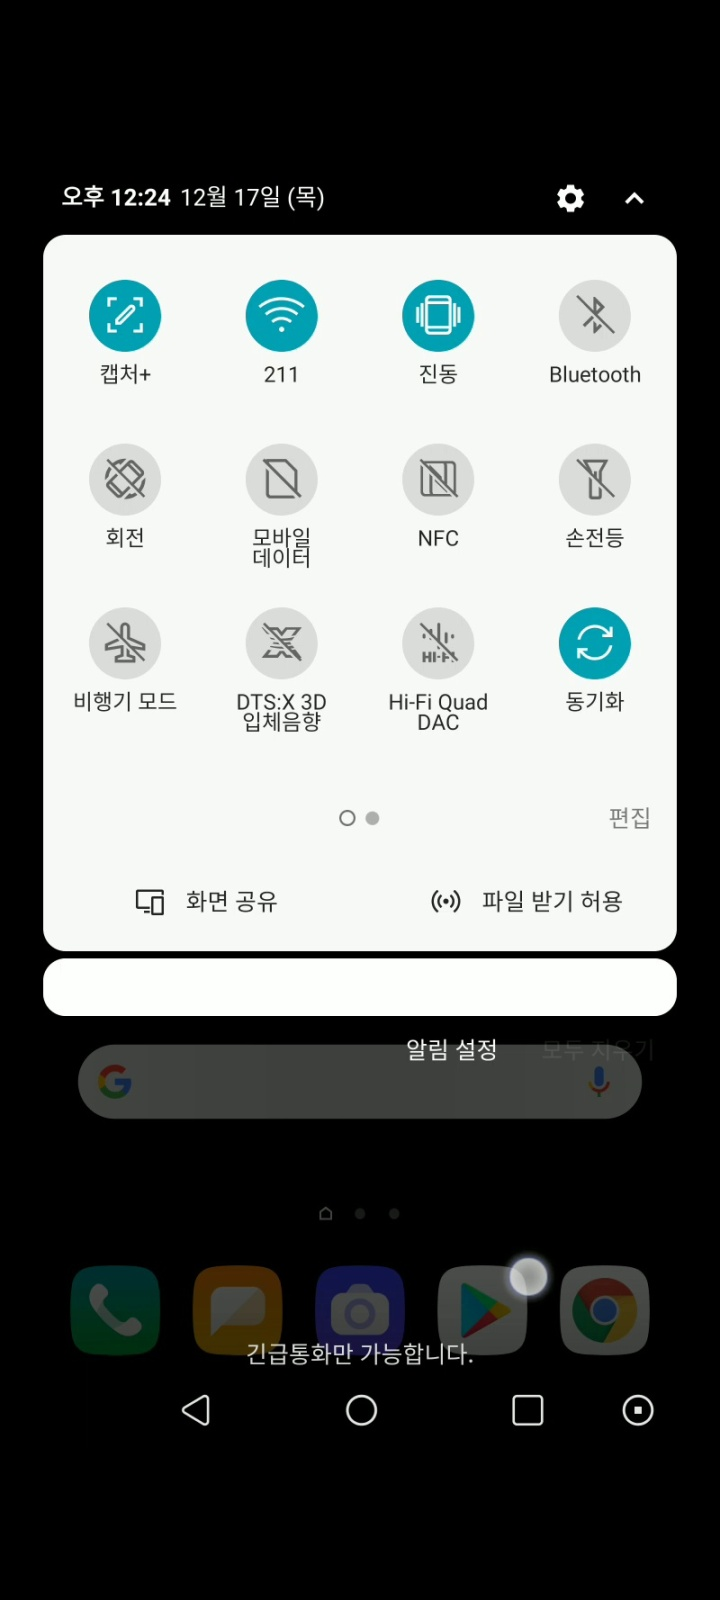Cursor: (508, 1254, 553, 1299)
